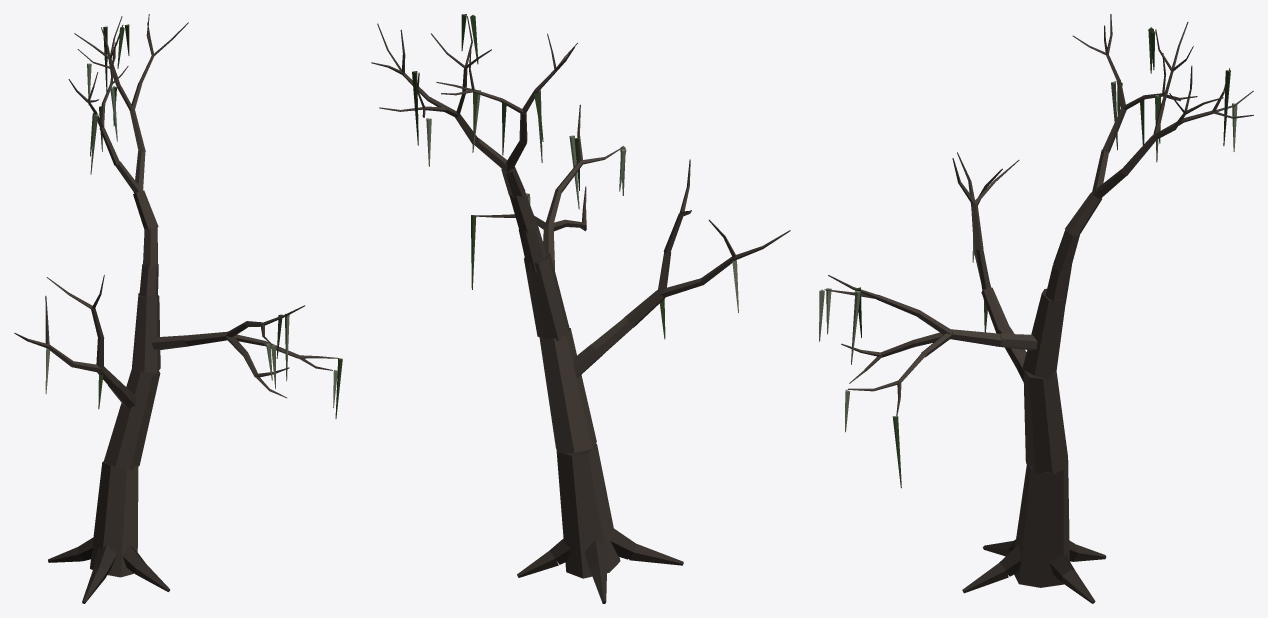
Rendered from gnarled_tree_2.glb.
3 renders of one model, left to right at view 1: azimuth 30°, elevation 25°; view 2: azimuth 150°, elevation 25°; view 3: azimuth 270°, elevation 25°, orthographic. The views are drawn at different scales.
Parts seen in each view (by area): view 1: GnarledTree2; view 2: GnarledTree2; view 3: GnarledTree2.
Part boxes in pixels (bbox=[...]): GnarledTree2: bbox=[14, 14, 342, 603]; GnarledTree2: bbox=[371, 14, 790, 603]; GnarledTree2: bbox=[819, 14, 1253, 603].
Bounding box in the file's own units: 2.8 × 4.43 × 2.99.
